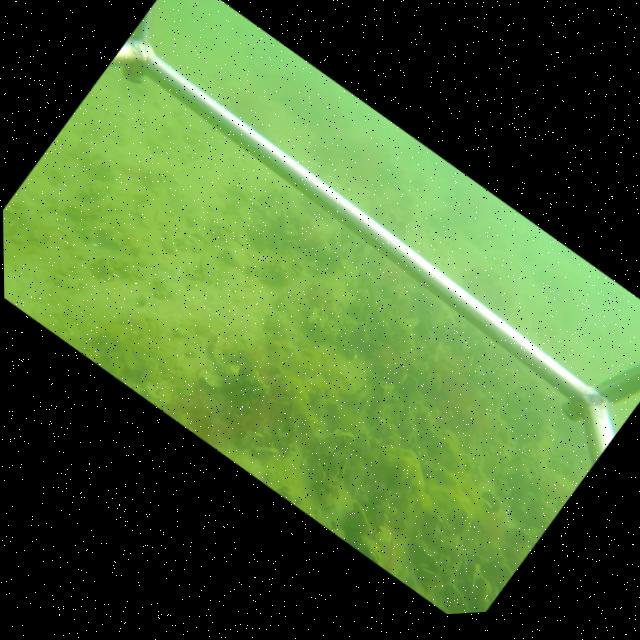Oyster-Closed: (359, 533, 384, 567), (448, 582, 471, 613), (366, 499, 390, 528), (210, 336, 229, 370), (412, 540, 438, 563), (287, 414, 299, 438)
Oyster-Indeterminate: (352, 323, 369, 346)
Oyster-Open: (313, 458, 336, 487), (329, 453, 349, 481), (478, 490, 501, 512), (396, 400, 412, 424)
